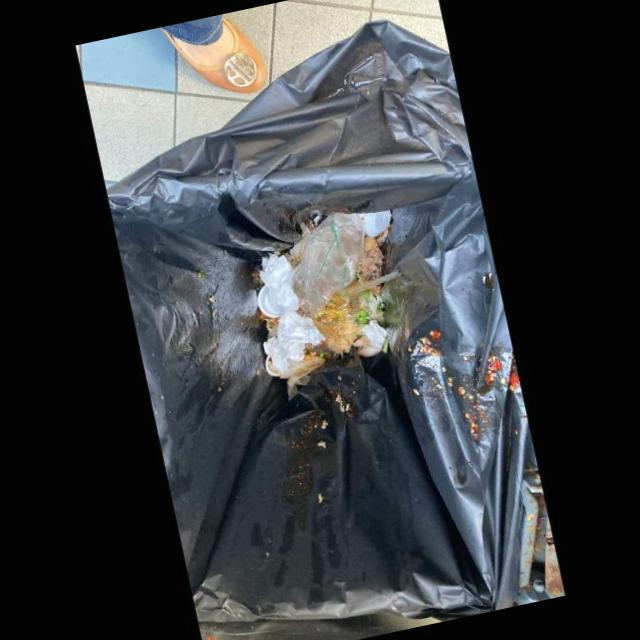giay: (264, 309, 325, 376), (259, 252, 299, 313)
ong_hut_nhua: (343, 269, 402, 296)
tui_ni_long: (293, 211, 365, 316)
